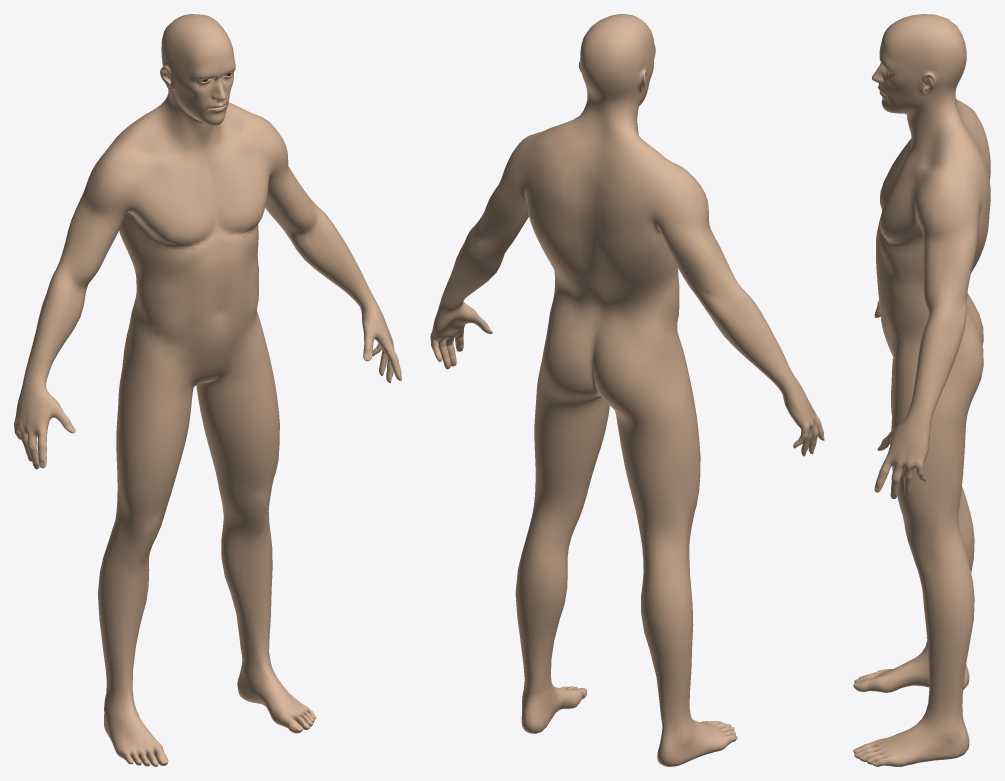
The model's file is male_model-1.glb.
3 renders of one model, left to right at view 1: azimuth 30°, elevation 25°; view 2: azimuth 150°, elevation 25°; view 3: azimuth 270°, elevation 25°, orthographic.
Visible parts, largest first — view 1: male_genericMesh; view 2: male_genericMesh; view 3: male_genericMesh.
Part boxes in pixels (x1=…): male_genericMesh: x1=14, y1=14, x2=401, y2=766; male_genericMesh: x1=430, y1=14, x2=824, y2=766; male_genericMesh: x1=853, y1=14, x2=990, y2=766.
Bounding box in the file's own units: 1023 × 1859 × 328.
2 materials, 2 textured.
